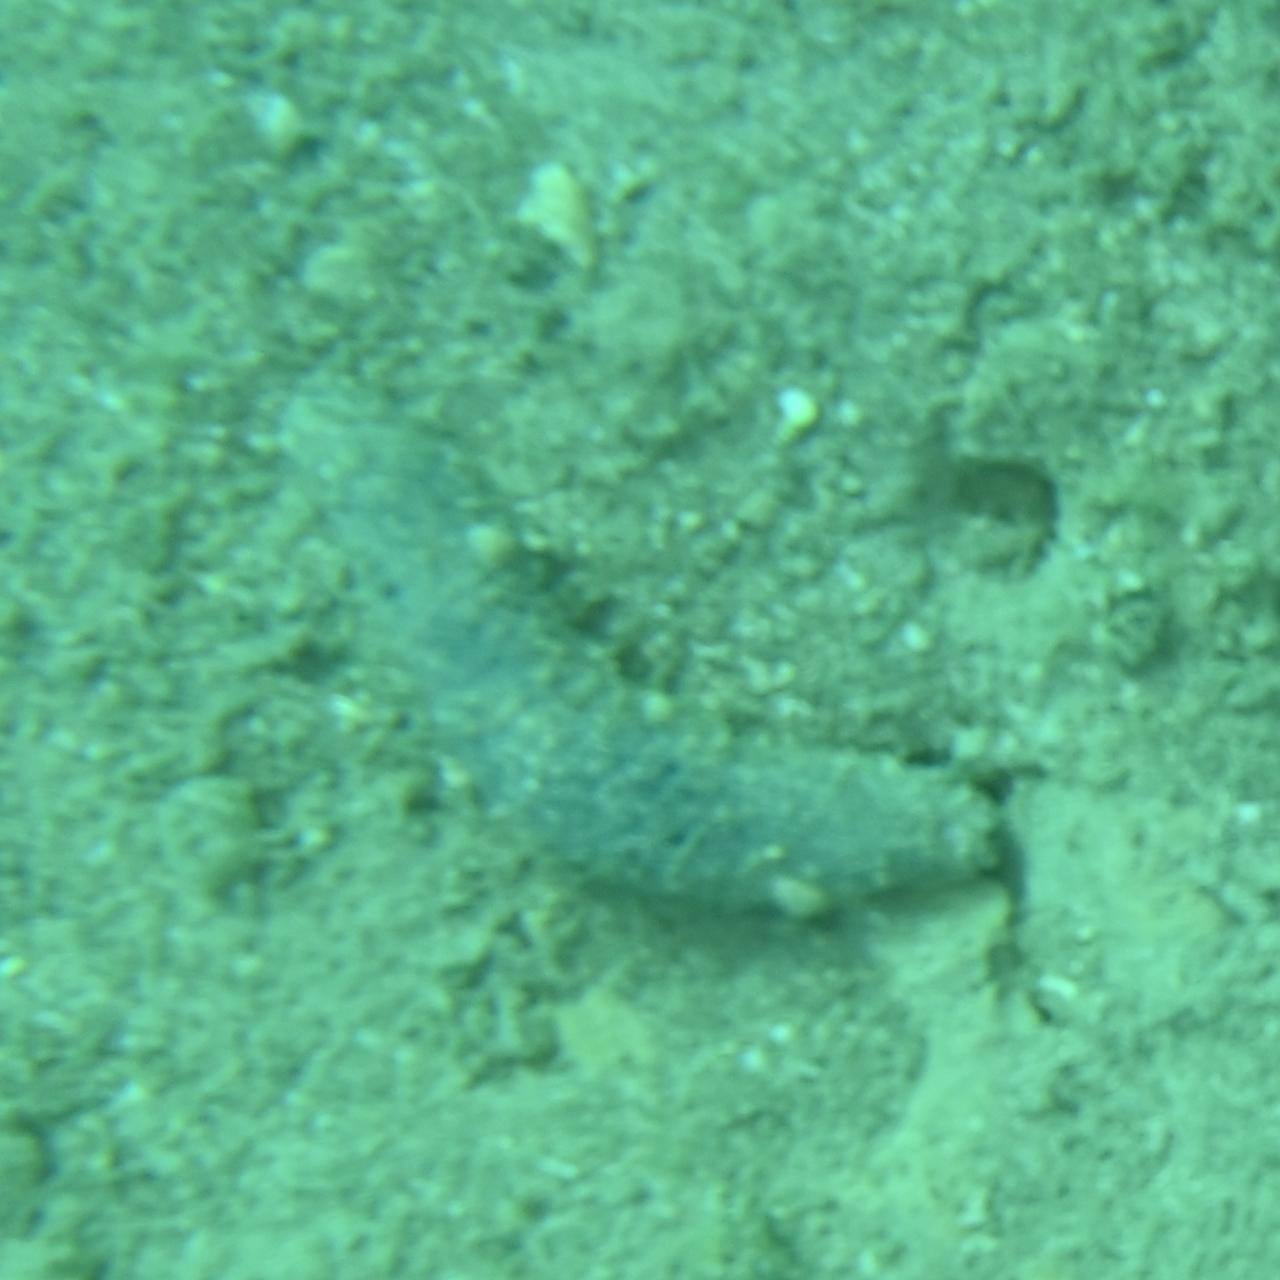Holothuria tubulosa: (270, 364, 1010, 916)
